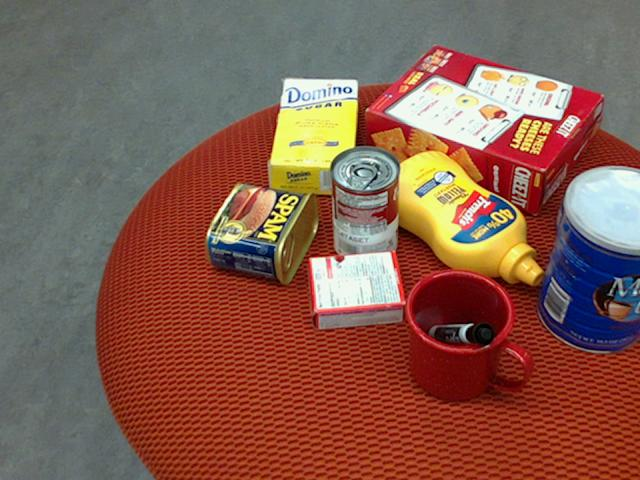cracker_box: (365, 44, 601, 212)
gelatin_box: (303, 252, 403, 330)
large_marker: (428, 321, 493, 344)
master_chef_can: (535, 165, 639, 353)
mug: (401, 268, 528, 401)
mustard_bottle: (374, 150, 542, 286)
potted_meat_can: (204, 183, 318, 284)
sugar_box: (268, 78, 357, 195)
tomato_soup_can: (328, 144, 398, 264)
tuna_fish_can: (554, 180, 639, 258)
